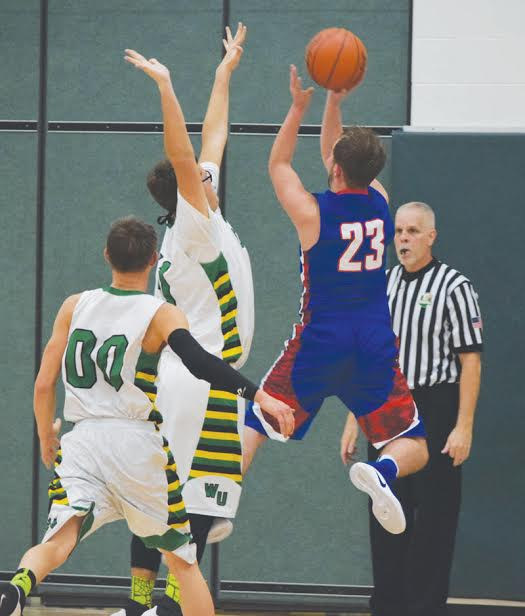ball: (304, 26, 370, 91)
player: (1, 221, 250, 615), (214, 85, 425, 537), (122, 21, 264, 616), (353, 201, 487, 612)
